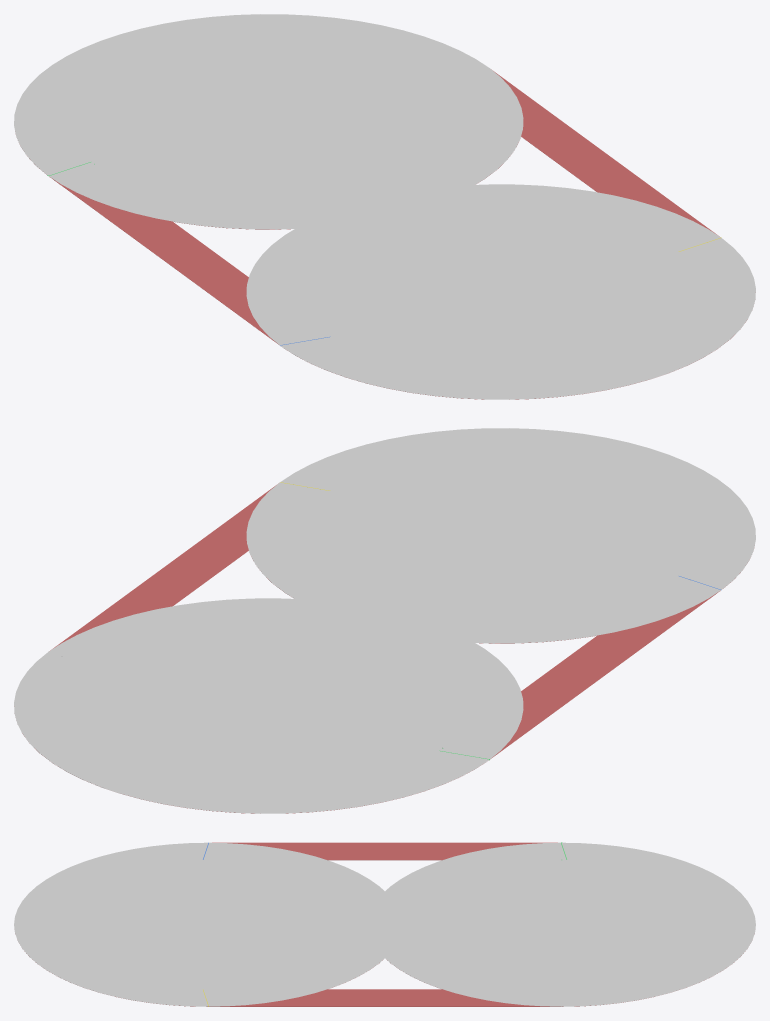
Rendered from  800m,1500m,3000m,5000m,10000m setup.glb.
The picture shows the model from 3 angles, top to bottom: view 1: azimuth 30°, elevation 25°; view 2: azimuth 150°, elevation 25°; view 3: azimuth 270°, elevation 25°; orthographic projection. The views are drawn at different scales.
Visible parts, largest first — view 1: Cylinder.002, Cylinder.009, Cylinder.005, Cylinder.007, Cylinder.004, Cylinder.006, Cylinder.016, Cylinder.008, Cylinder.011, Cylinder.003, Cylinder.017, Cylinder.018 (+8 smaller); view 2: Cylinder.004, Cylinder.003, Cylinder.006, Cylinder.011, Cylinder.017, Cylinder.007, Cylinder.018, Cylinder.009, Cylinder.015, Cylinder.002, Cylinder.013, Cylinder.010 (+8 smaller); view 3: Cylinder.002, Cylinder.003, Cylinder.006, Cylinder.007, Cylinder.010, Cylinder.011, Cylinder.014, Cylinder.015, Cylinder.018, Cylinder.017, Cylinder.016, Cylinder.019 (+8 smaller).
Boxes of the visible parts, bbox=[...] form: Cylinder.002: bbox=[68, 37, 469, 203]; Cylinder.009: bbox=[280, 206, 721, 385]; Cylinder.005: bbox=[293, 210, 707, 379]; Cylinder.007: bbox=[286, 201, 715, 382]; Cylinder.004: bbox=[61, 34, 476, 209]; Cylinder.006: bbox=[54, 31, 482, 210]; Cylinder.016: bbox=[20, 17, 516, 226]; Cylinder.008: bbox=[47, 28, 489, 215]; Cylinder.011: bbox=[273, 195, 728, 388]; Cylinder.003: bbox=[300, 207, 700, 376]; Cylinder.017: bbox=[253, 187, 749, 396]; Cylinder.018: bbox=[14, 14, 523, 229]; Cylinder.004: bbox=[62, 620, 476, 793]; Cylinder.003: bbox=[300, 451, 701, 618]; Cylinder.006: bbox=[54, 615, 482, 796]; Cylinder.011: bbox=[274, 439, 728, 628]; Cylinder.017: bbox=[253, 431, 749, 640]; Cylinder.007: bbox=[287, 445, 715, 624]; Cylinder.018: bbox=[14, 598, 523, 813]; Cylinder.009: bbox=[280, 442, 722, 629]; Cylinder.015: bbox=[260, 434, 742, 637]; Cylinder.002: bbox=[69, 621, 469, 790]; Cylinder.013: bbox=[266, 436, 735, 634]; Cylinder.010: bbox=[41, 609, 493, 802]; Cylinder.002: bbox=[410, 860, 714, 989]; Cylinder.003: bbox=[55, 860, 359, 989]; Cylinder.006: bbox=[401, 855, 722, 993]; Cylinder.007: bbox=[47, 855, 368, 993]; Cylinder.010: bbox=[389, 851, 734, 997]; Cylinder.011: bbox=[35, 851, 380, 997]; Cylinder.014: bbox=[379, 847, 744, 1002]; Cylinder.015: bbox=[25, 847, 388, 1002]; Cylinder.018: bbox=[369, 842, 755, 1006]; Cylinder.017: bbox=[26, 845, 388, 1004]; Cylinder.016: bbox=[381, 845, 746, 1004]; Cylinder.019: bbox=[14, 842, 398, 1006].
Bounding box in the file's own units: 92.69 × 0.2 × 177.
